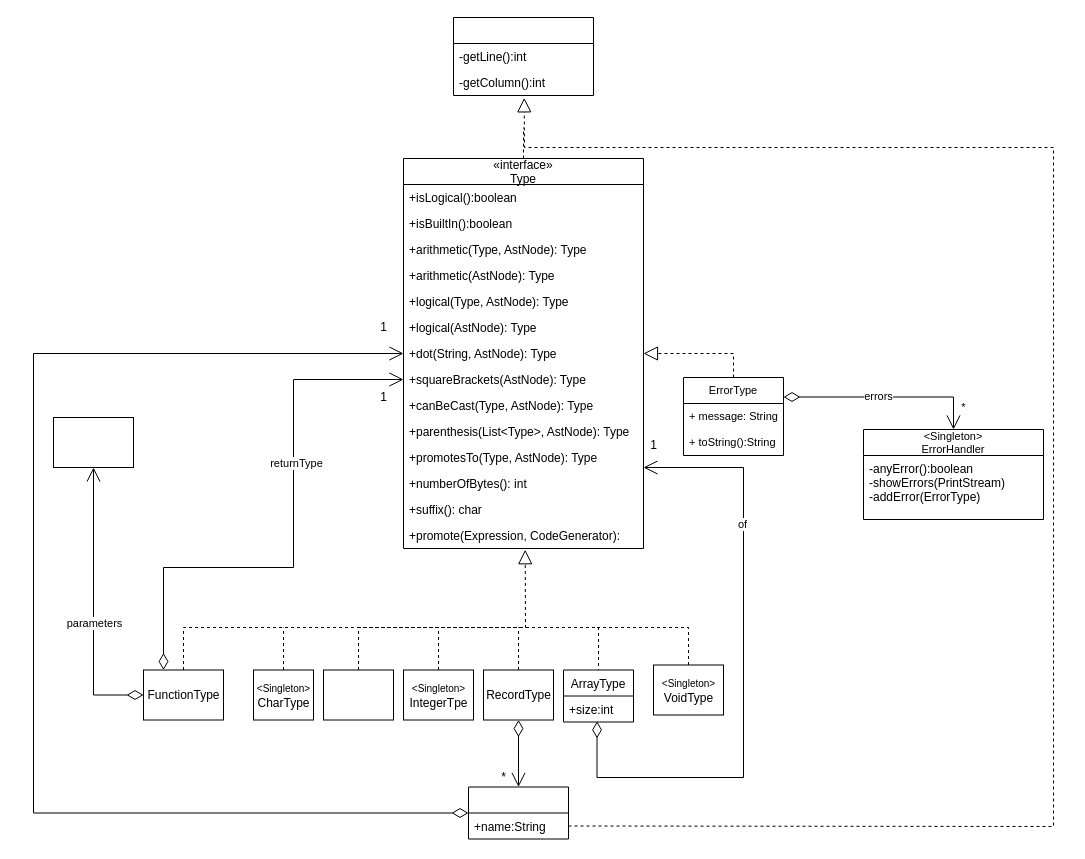
Image size: 1085x859. Some labels were removed from this diagram. Here are the shapes that lost their labels. From the top down, the box of each, then its label:
(452, 16, 594, 96): «interface» ASTNode
(52, 416, 134, 468): VarDefinition
(322, 669, 394, 720): <Singleton> DoubleType
(468, 786, 568, 839): RecordField
